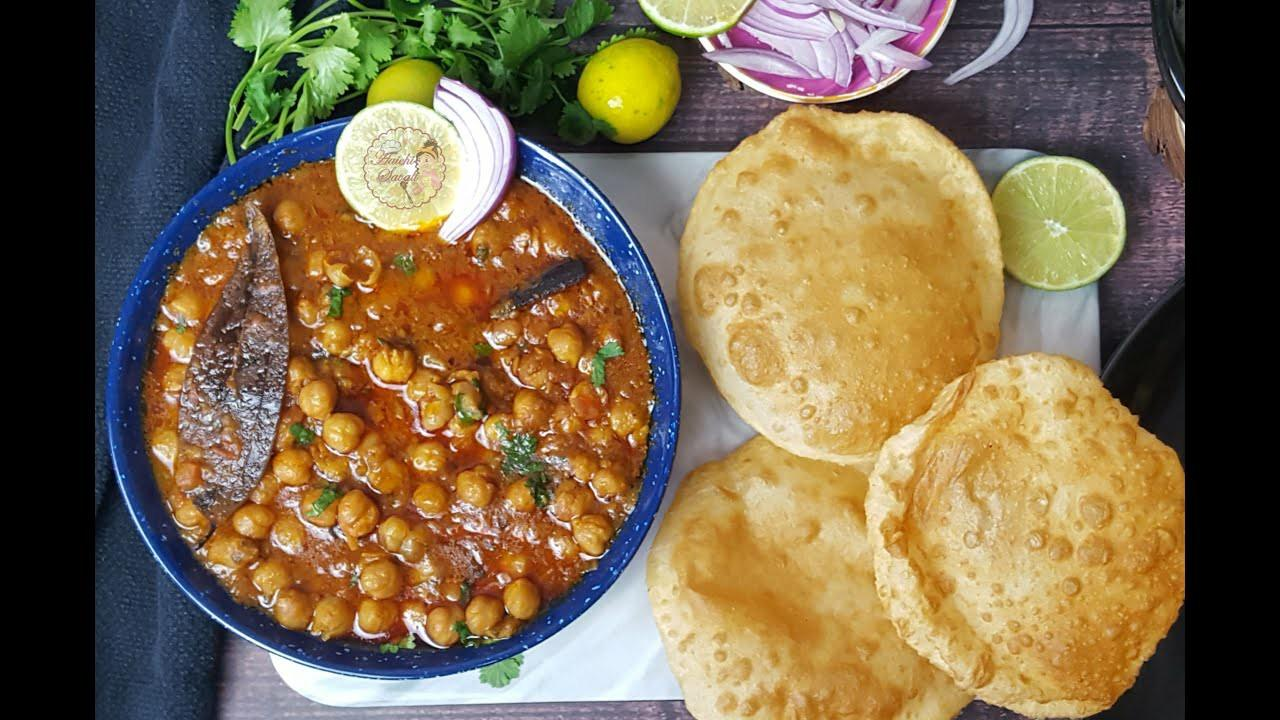Bhatura: (679, 103, 1005, 467), (865, 356, 1186, 718), (645, 432, 974, 720)
Chole: (167, 190, 639, 635)
